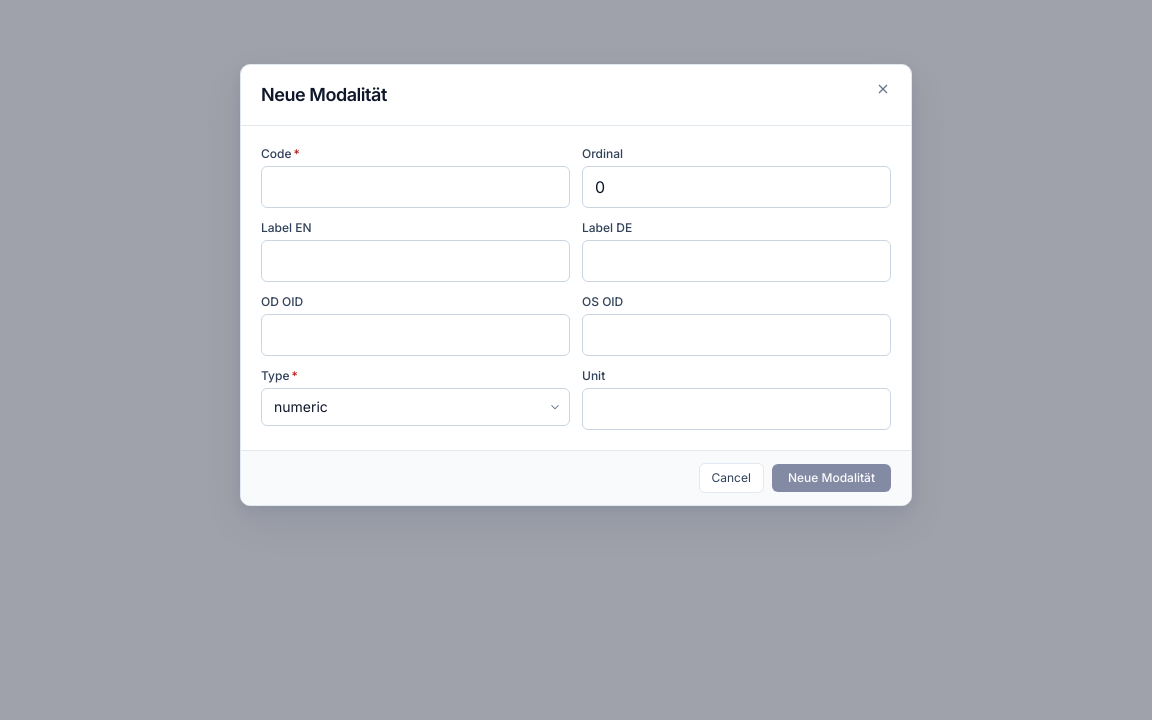
ModalityEditDialog › submit is disabled until code + at least one OID + dataType are set
Check: the button with test id "modality-edit-submit" is disabled, box [772,464,891,492]
In the field with id "modality-code": (416, 187) [261,166,570,208], type "X"
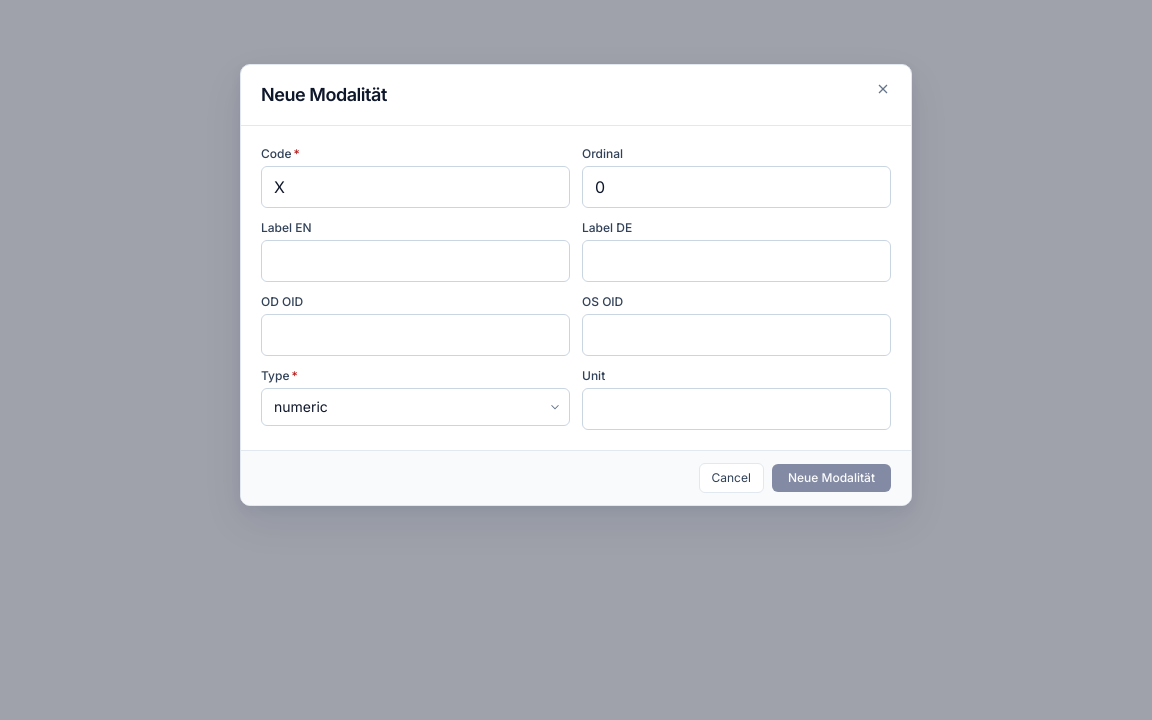
Check: the button with test id "modality-edit-submit" is disabled, box [772,464,891,492]
In the field with id "modality-oid-od": (416, 335) [261,314,570,356], type "I_X_OD"
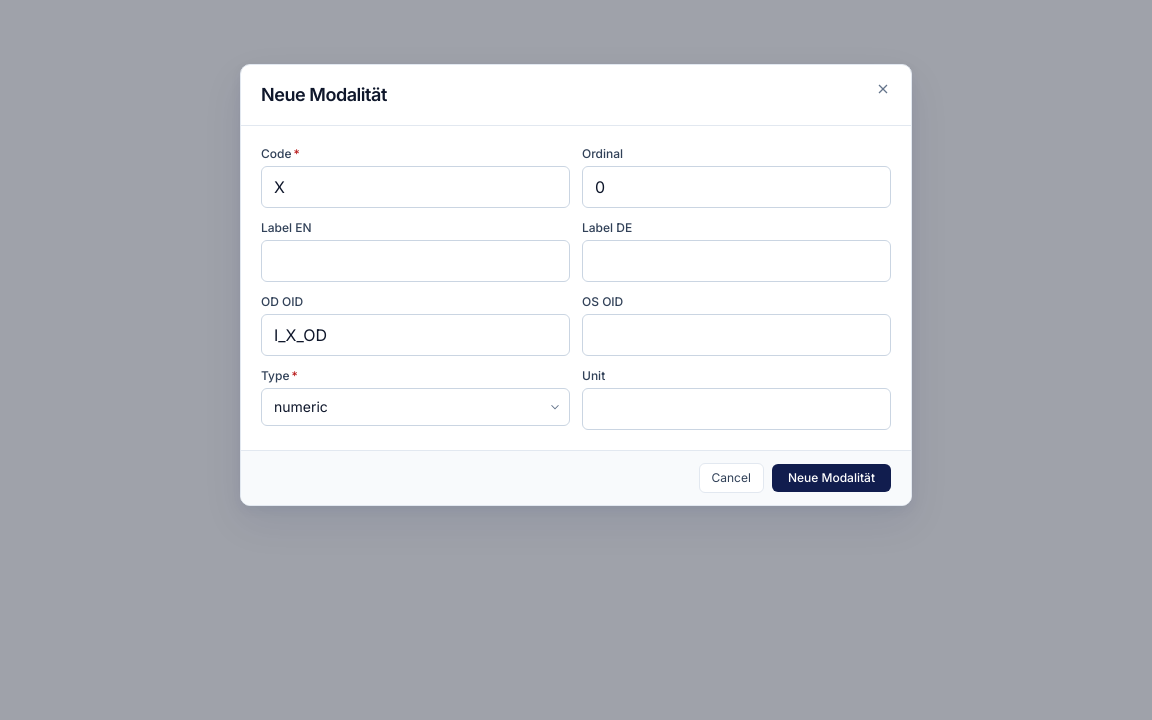
Check: the button with test id "modality-edit-submit" is enabled, box [772,464,891,492]
